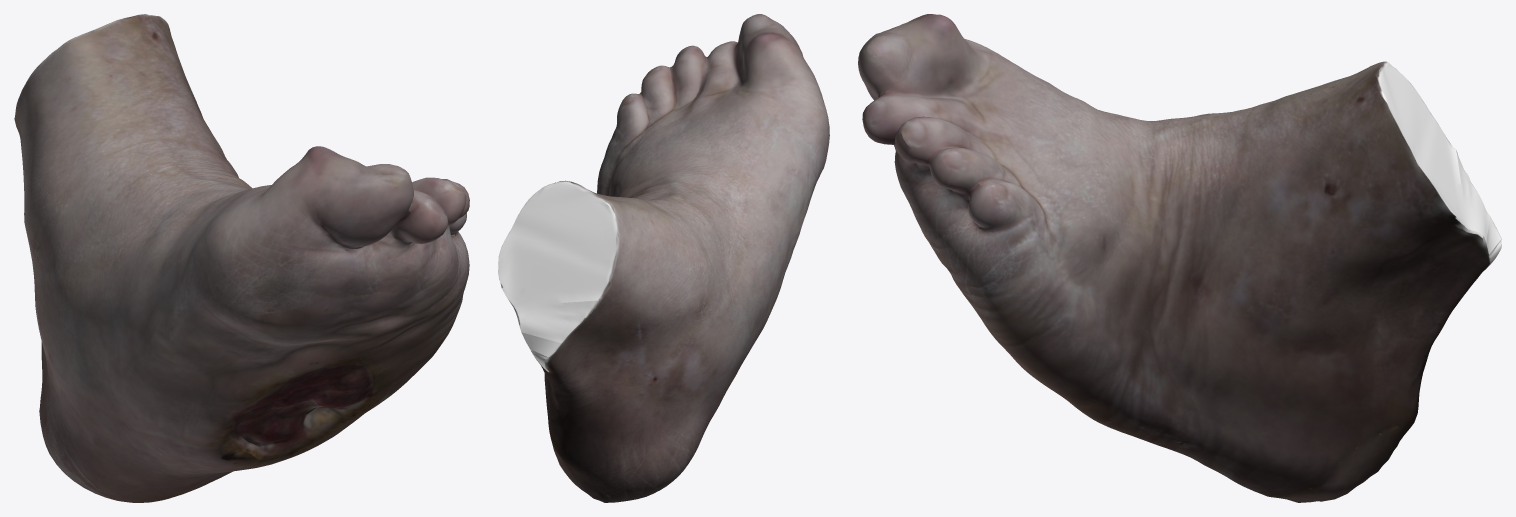
Rendered from foot_01.glb.
3 views of the same model, side by side, from view 1: azimuth 30°, elevation 25°; view 2: azimuth 150°, elevation 25°; view 3: azimuth 270°, elevation 25° (orthographic). The views are drawn at different scales.
Visible parts, largest first — view 1: LP_Foot_mesh.001; view 2: LP_Foot_mesh.001; view 3: LP_Foot_mesh.001.
Boxes of the visible parts, x1,y1,x2,y2 form: LP_Foot_mesh.001: [14, 14, 469, 502]; LP_Foot_mesh.001: [498, 14, 829, 502]; LP_Foot_mesh.001: [858, 14, 1501, 502].
Bounding box in the file's own units: 0.0816 × 0.1321 × 0.1626.
Materials: 1 (1 with a texture image).
